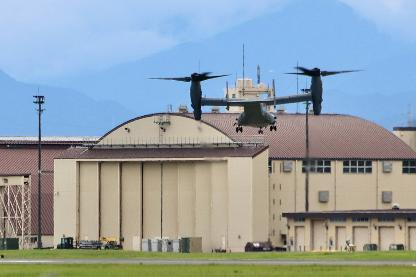Tornado: (146, 66, 366, 134)
